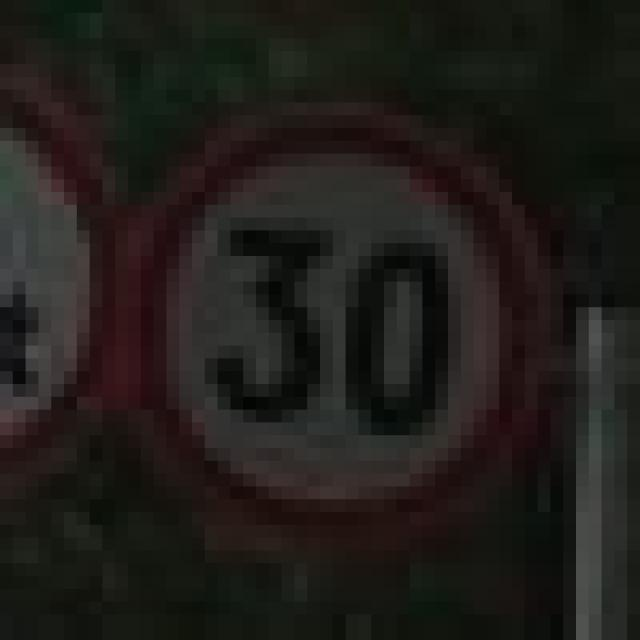SPEED_LIMIT_30: (115, 90, 550, 550)
